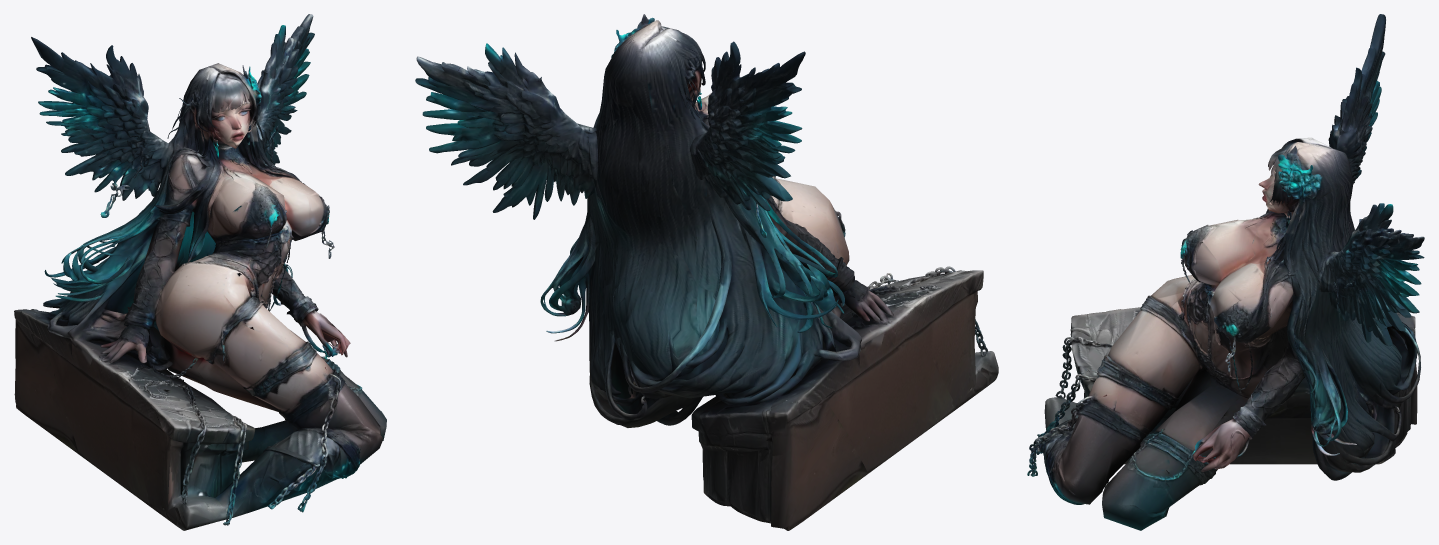
3 views of the same model, side by side, from view 1: azimuth 30°, elevation 25°; view 2: azimuth 150°, elevation 25°; view 3: azimuth 270°, elevation 25° (orthographic). The views are drawn at different scales.
Visible parts, largest first — view 1: model; view 2: model; view 3: model.
Part boxes in pixels (x1,y1,x2,y2): model: [14, 14, 386, 530]; model: [415, 14, 998, 530]; model: [1027, 14, 1424, 530].
Size of the model in its own units: 1.63 by 1.9 by 1.68.
1 material, 1 textured.
